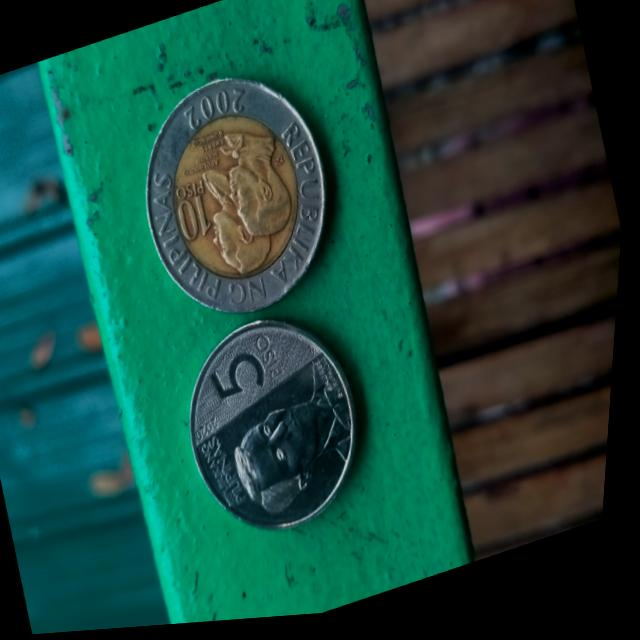10_Old_Front: (139, 96, 325, 309)
5_New_Front: (185, 321, 370, 522)
